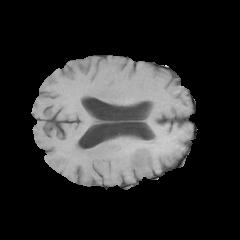glioma: (62, 125, 172, 178)
